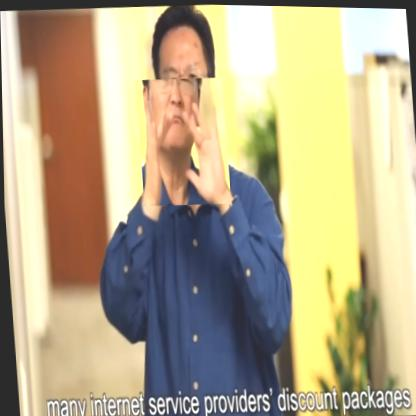Internet: (135, 74, 230, 207)
